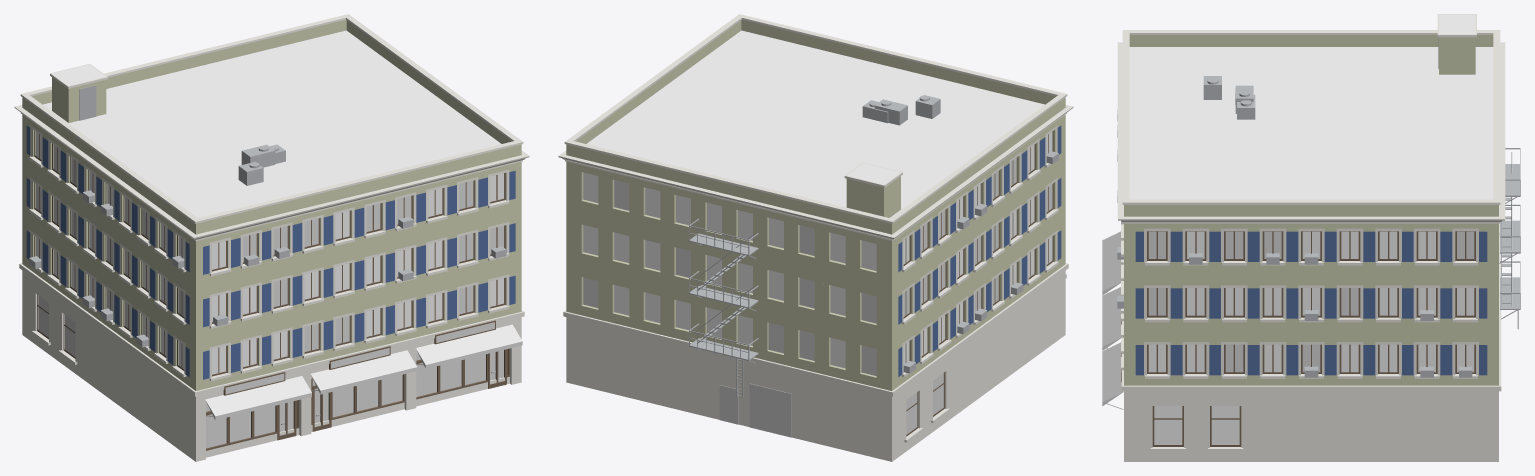
The model's file is midtown_w78f3.glb.
The picture shows the model from 3 angles, left to right: view 1: azimuth 30°, elevation 25°; view 2: azimuth 150°, elevation 25°; view 3: azimuth 270°, elevation 25°; orthographic projection. The views are drawn at different scales.
Parts seen in each view (by area): view 1: midtown_w78f3_Walls, midtown_w78f3_Roof, midtown_w78f3_Trim, midtown_w78f3_Accent, midtown_w78f3_WindowsLit, midtown_w78f3_Frames, midtown_w78f3_Glass, midtown_w78f3_Awning, midtown_w78f3_Details, midtown_w78f3_Sign; view 2: midtown_w78f3_Walls, midtown_w78f3_Trim, midtown_w78f3_Roof, midtown_w78f3_Glass, midtown_w78f3_WindowsLit, midtown_w78f3_Details, midtown_w78f3_Accent, midtown_w78f3_Doors, midtown_w78f3_Frames; view 3: midtown_w78f3_Roof, midtown_w78f3_Trim, midtown_w78f3_Walls, midtown_w78f3_Glass, midtown_w78f3_Accent, midtown_w78f3_Frames, midtown_w78f3_Details, midtown_w78f3_WindowsLit, midtown_w78f3_Awning.
Boxes of the visible parts, <box> form: midtown_w78f3_Walls: <box>22,20,521,390</box>; midtown_w78f3_Roof: <box>43,30,501,217</box>; midtown_w78f3_Trim: <box>14,14,529,461</box>; midtown_w78f3_Accent: <box>26,125,515,379</box>; midtown_w78f3_WindowsLit: <box>35,145,503,448</box>; midtown_w78f3_Frames: <box>34,131,509,450</box>; midtown_w78f3_Glass: <box>35,132,503,374</box>; midtown_w78f3_Awning: <box>205,324,522,420</box>; midtown_w78f3_Details: <box>29,85,506,424</box>; midtown_w78f3_Sign: <box>225,322,494,394</box>; midtown_w78f3_Walls: <box>566,20,1065,390</box>; midtown_w78f3_Trim: <box>558,14,1073,461</box>; midtown_w78f3_Roof: <box>586,30,1044,217</box>; midtown_w78f3_Glass: <box>583,132,1052,368</box>; midtown_w78f3_WindowsLit: <box>583,158,1052,434</box>; midtown_w78f3_Details: <box>689,95,1058,398</box>; midtown_w78f3_Accent: <box>898,125,1061,376</box>; midtown_w78f3_Doors: <box>719,383,791,437</box>; midtown_w78f3_Frames: <box>903,131,1053,436</box>; midtown_w78f3_Roof: <box>1129,14,1493,199</box>; midtown_w78f3_Trim: <box>1117,14,1505,461</box>; midtown_w78f3_Walls: <box>1124,35,1498,385</box>; midtown_w78f3_Glass: <box>1148,231,1474,444</box>; midtown_w78f3_Accent: <box>1135,231,1487,375</box>; midtown_w78f3_Frames: <box>1121,231,1475,446</box>; midtown_w78f3_Details: <box>1106,37,1520,409</box>; midtown_w78f3_WindowsLit: <box>1148,231,1474,372</box>; midtown_w78f3_Awning: <box>1102,231,1123,406</box>.
Size of the model in its own units: 80.6 by 60.54 by 80.4.
